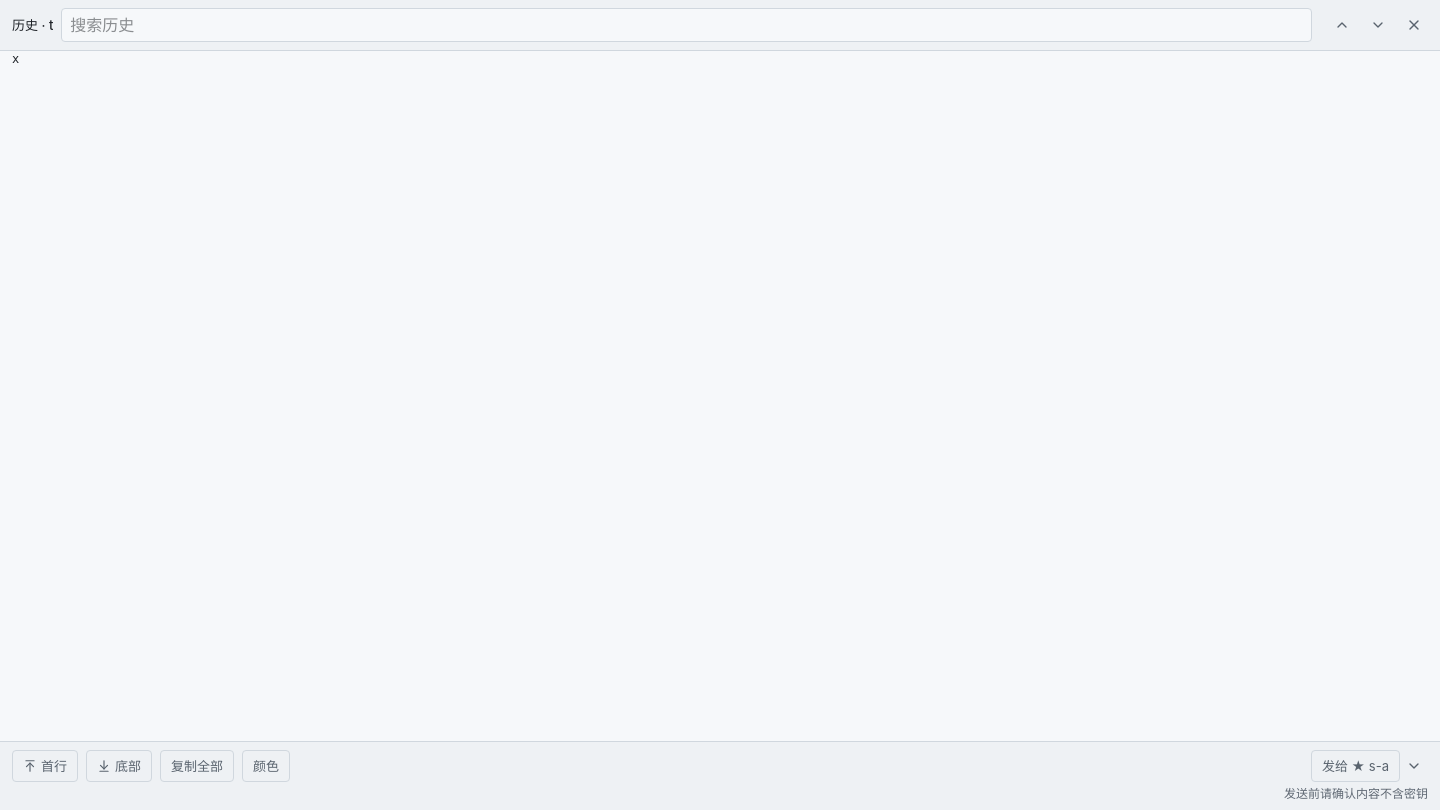
it: HistoryView › ★ running in interrupt mode: the undo toast says 将打断
(page scrolled)
Check: the text "x" is shown, box [12, 52, 19, 66]
Click the button with aria-label "发给 s-a" at (1356, 766), box [1311, 750, 1400, 782]
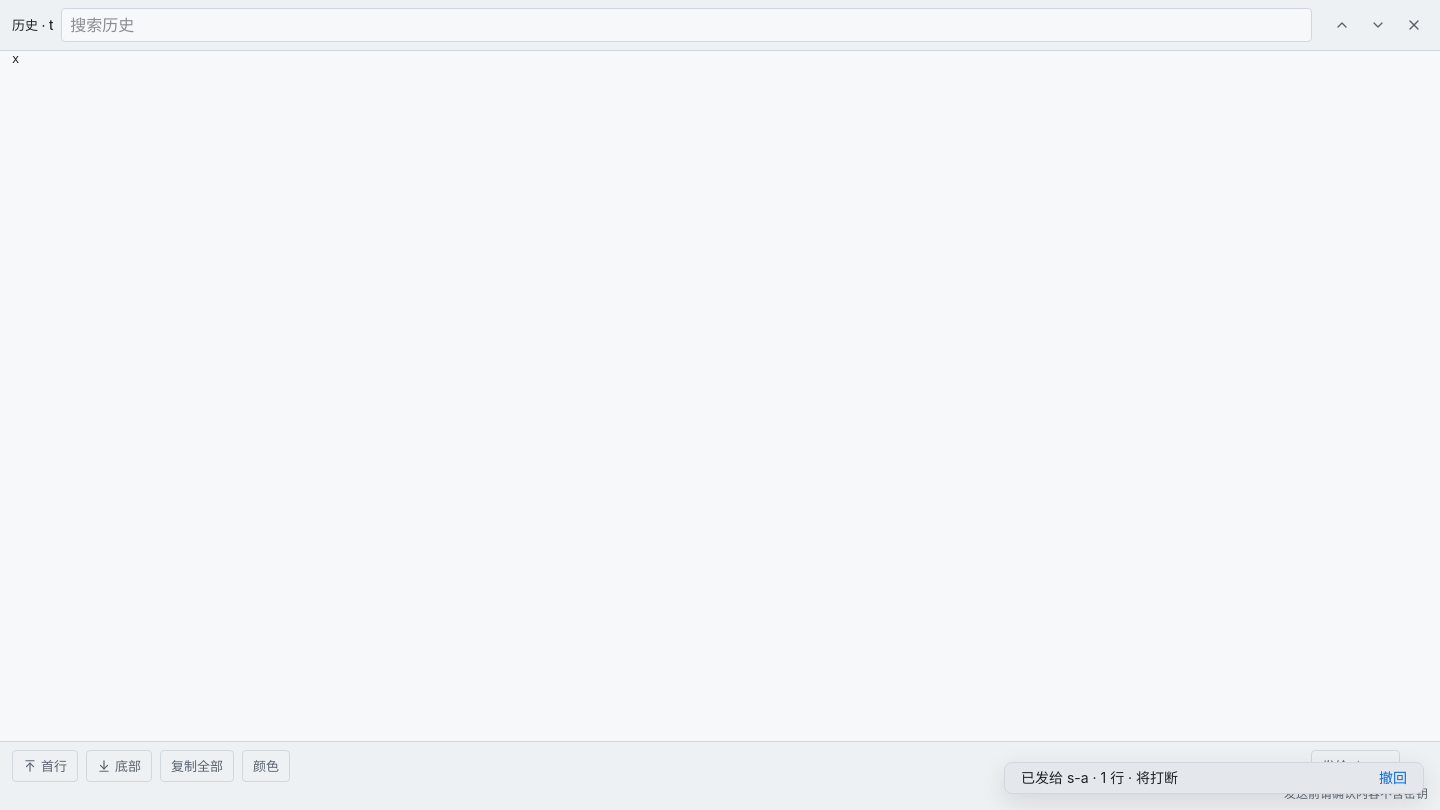
Check: the text "已发给 s-a · 1 行 · 将打断" is shown, box [1021, 769, 1178, 786]
